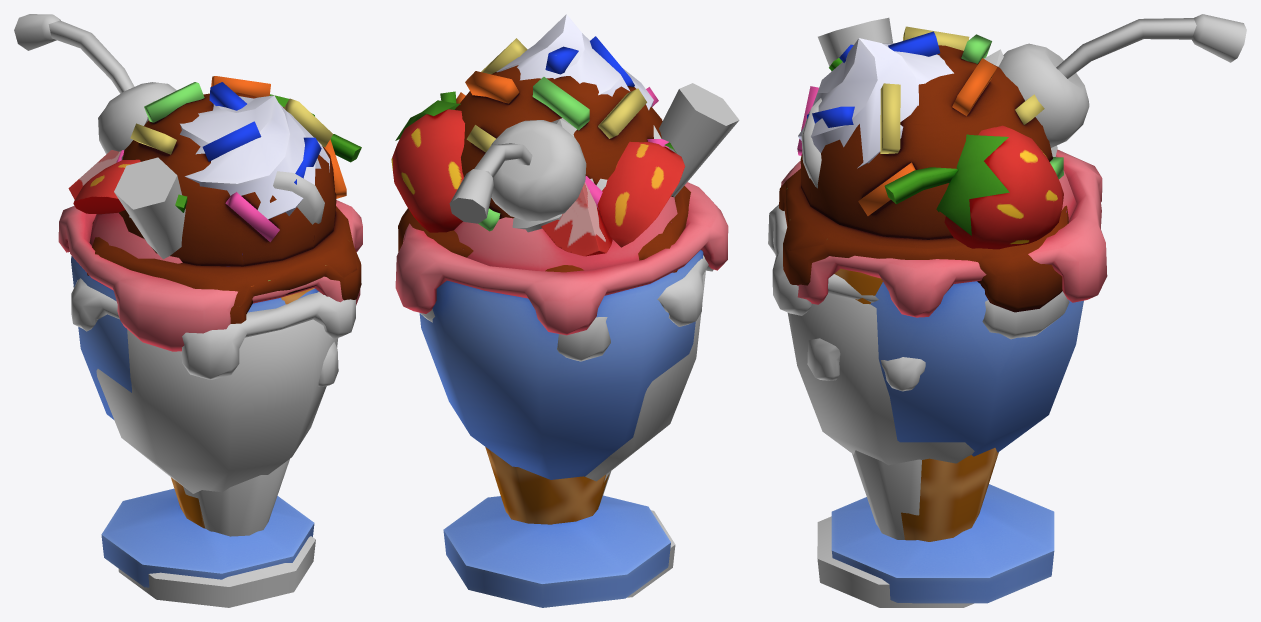
The model's file is ice cream 2.fbx.
The picture shows the model from 3 angles, left to right: view 1: azimuth 30°, elevation 25°; view 2: azimuth 150°, elevation 25°; view 3: azimuth 270°, elevation 25°; orthographic projection. The views are drawn at different scales.
Parts seen in each view (by area): view 1: cream8_, cream9, cream6_, cream7_; view 2: cream9, cream8_, cream6_; view 3: cream9, cream6_, cream8_, cream7_.
Boxes of the visible parts, x1,y1,x2,y2 form: cream8_: (14, 14, 355, 607); cream9: (58, 94, 362, 587); cream6_: (87, 76, 361, 528); cream7_: (129, 171, 338, 536); cream9: (391, 14, 728, 607); cream8_: (420, 83, 739, 597); cream6_: (398, 36, 690, 524); cream9: (781, 38, 1107, 603); cream6_: (779, 26, 1068, 541); cream8_: (768, 14, 1246, 607); cream7_: (801, 98, 925, 539).
Size of the model in its own units: 75.19 by 130 by 102.
